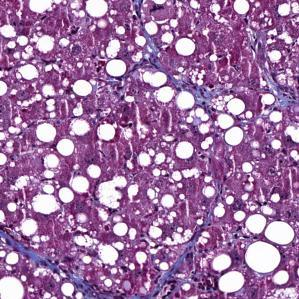fibrosis: (5, 232, 75, 280), (148, 248, 200, 294)
